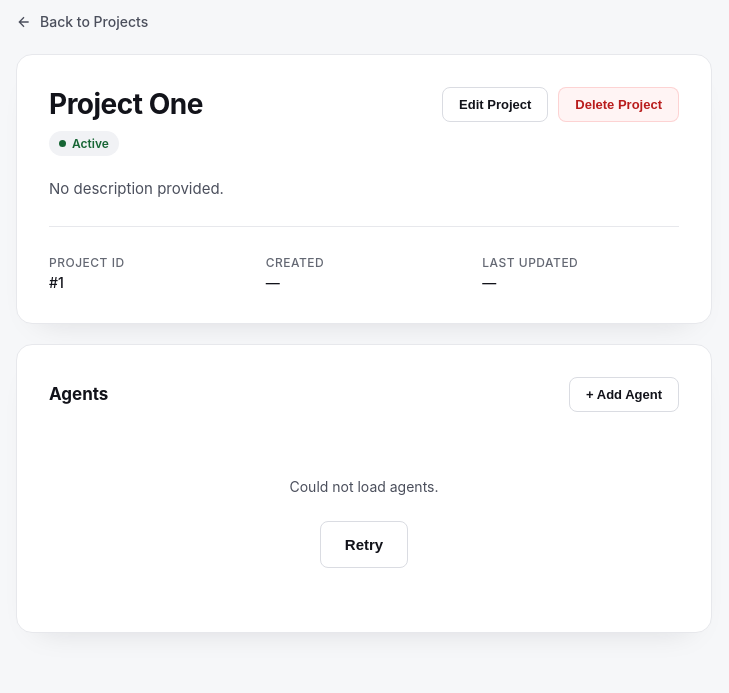
Test: ProjectDetails — agents query › shows an error with a Retry button when the agents fetch fails
Expected: the text "Could not load agents." is shown, left=290, top=478, right=438, bottom=494
Click the button "Retry".
click(364, 544)  # box left=320, top=520, right=408, bottom=568
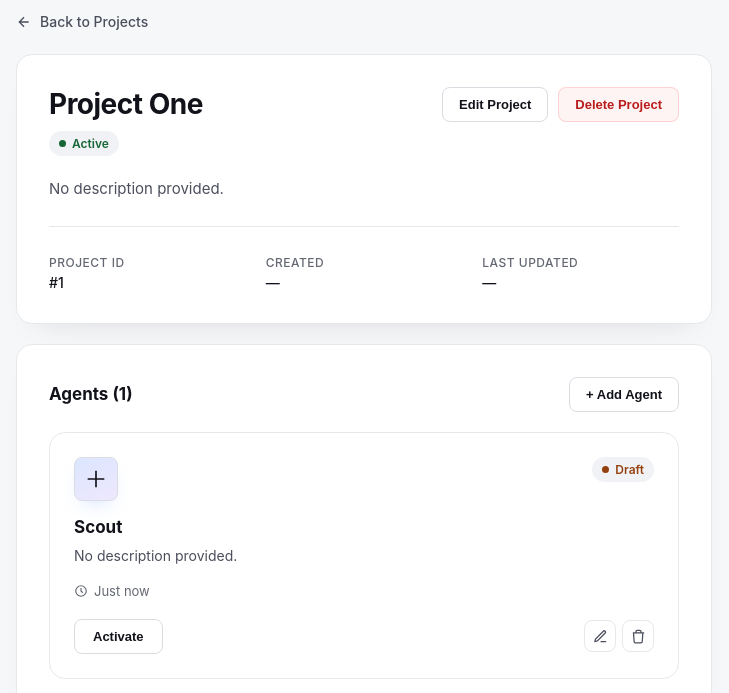
Now the heading "Scout" is shown, box left=74, top=516, right=122, bottom=536
